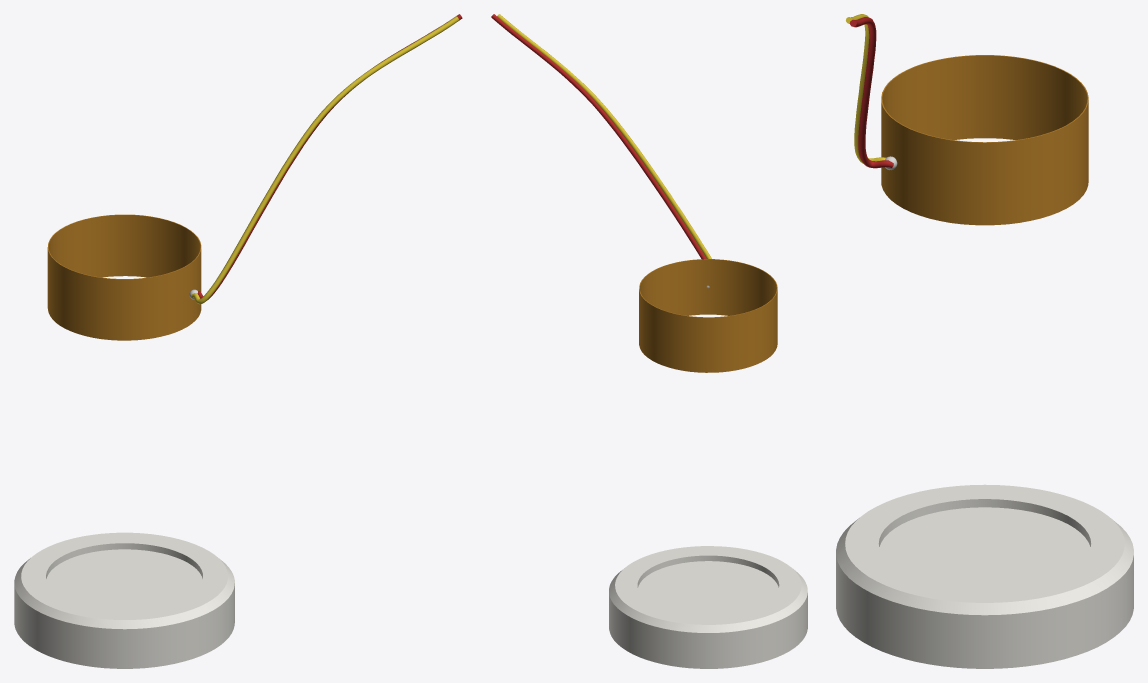
Rendered from fixture.glb.
The picture shows the model from 3 angles, left to right: view 1: azimuth 30°, elevation 25°; view 2: azimuth 150°, elevation 25°; view 3: azimuth 270°, elevation 25°; orthographic projection. The views are drawn at different scales.
Visible parts, largest first — view 1: fixture; view 2: fixture; view 3: fixture.
Part boxes in pixels (x1,y1,x2,y2): fixture: (14, 14, 462, 668); fixture: (491, 14, 807, 668); fixture: (836, 14, 1133, 668).
Bounding box in the file's own units: 52.5 × 74.9 × 26.06.
